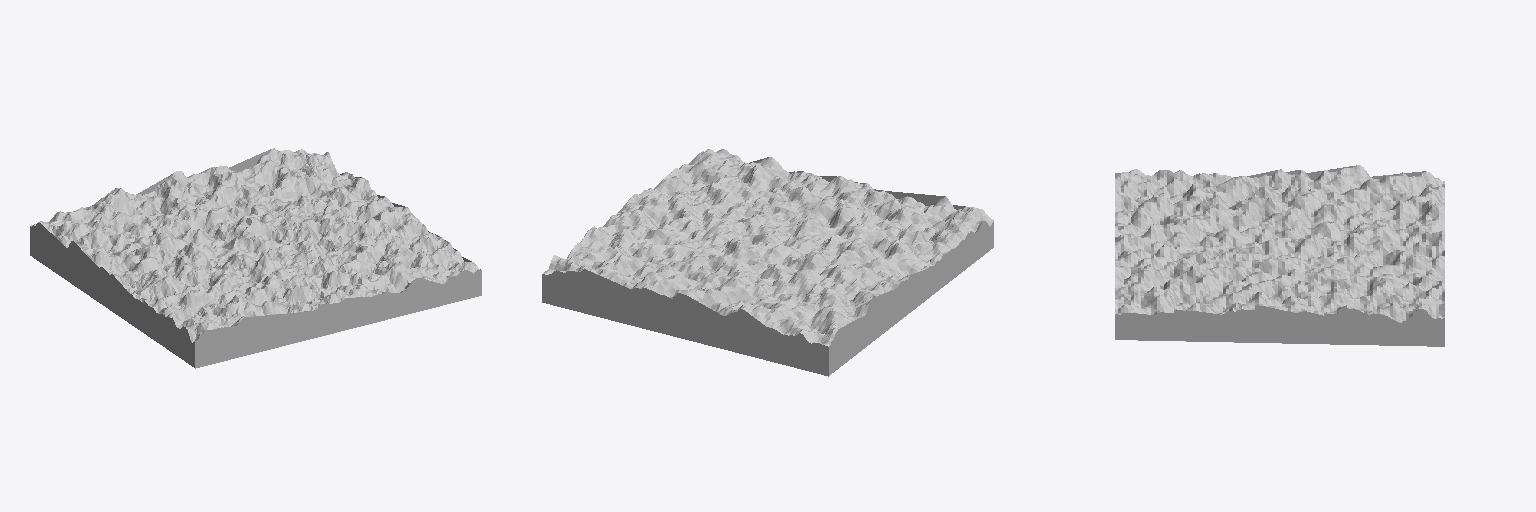
File: roughBase.obj
3 renders of one model, left to right at view 1: azimuth 30°, elevation 25°; view 2: azimuth 150°, elevation 25°; view 3: azimuth 270°, elevation 25°, orthographic.
Visible parts, largest first — view 1: Cube; view 2: Cube; view 3: Cube.
Boxes of the visible parts, x1=… form: Cube: x1=30, y1=148, x2=481, y2=368; Cube: x1=542, y1=149, x2=993, y2=376; Cube: x1=1115, y1=165, x2=1444, y2=346.
Size of the model in its own units: 2 by 0.3345 by 2.